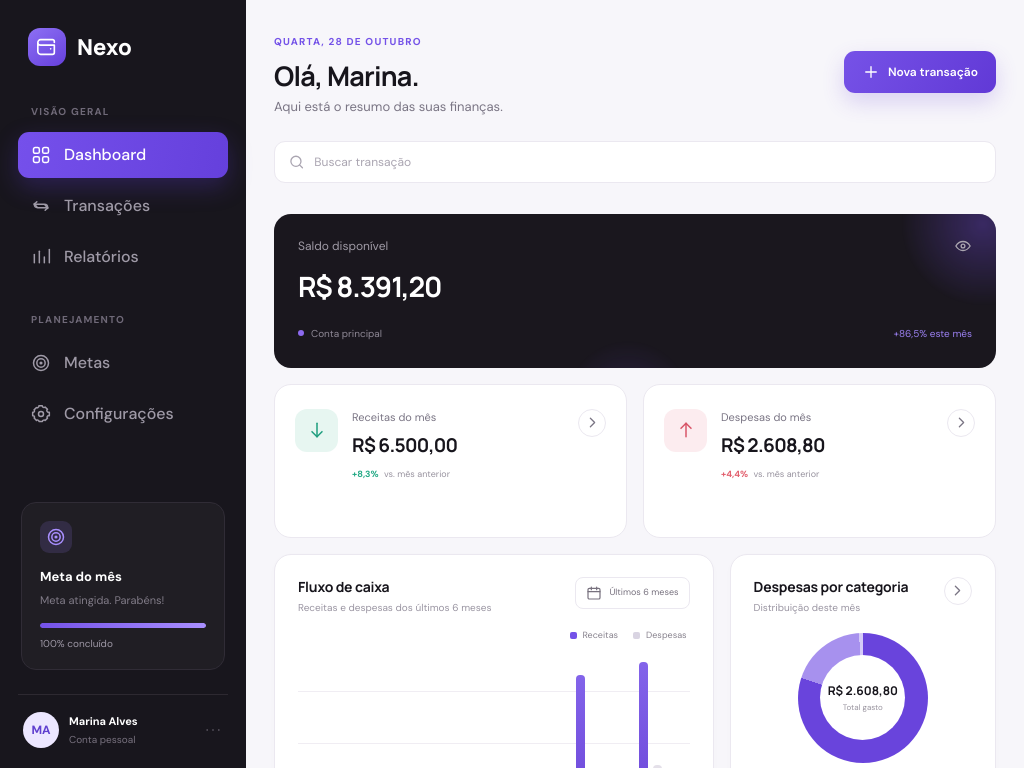
Test: Dashboard › oculta todos os valores, inclusive o total do gráfico de categorias
Click the button named "Ocultar valores" at (963, 246), box [954,236,972,254]
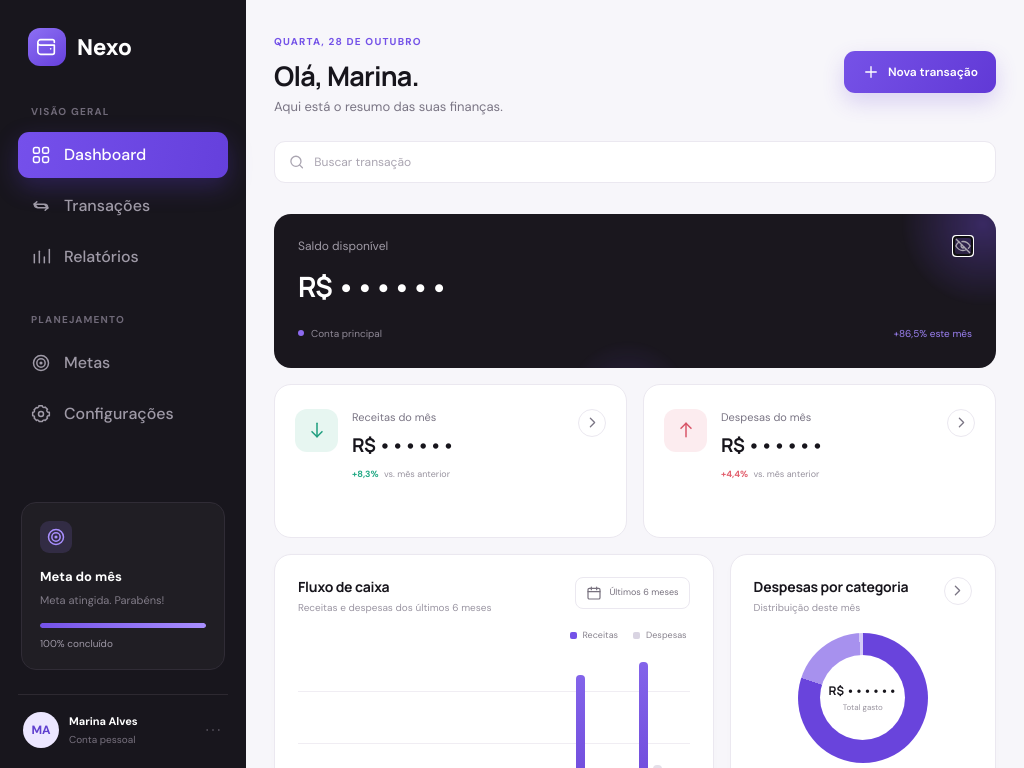
expect the text "R$ ••••••" is shown 4 times: met, box [298,266,448,304]; [352,432,454,458]; [721,432,824,458]; [828,682,897,699]
expect the button named "Mostrar valores" is pressed: met
Click the button named "Mostrar valores" at (963, 246), box [954,236,972,254]
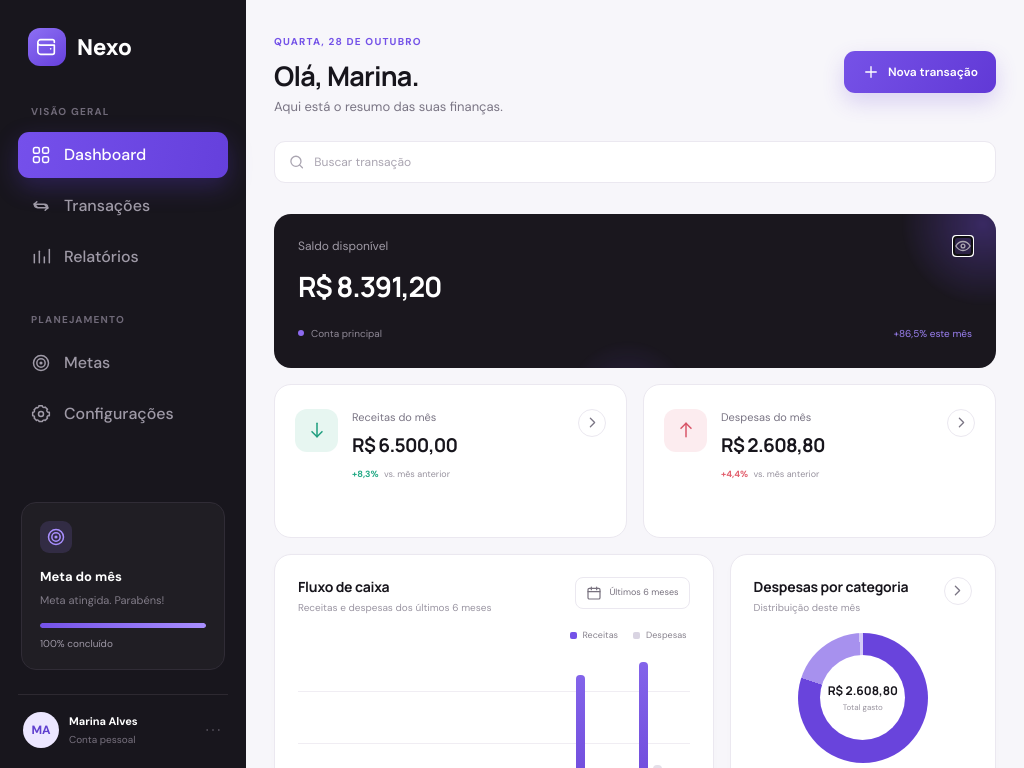
expect the text "R$ ••••••" is gone: met
